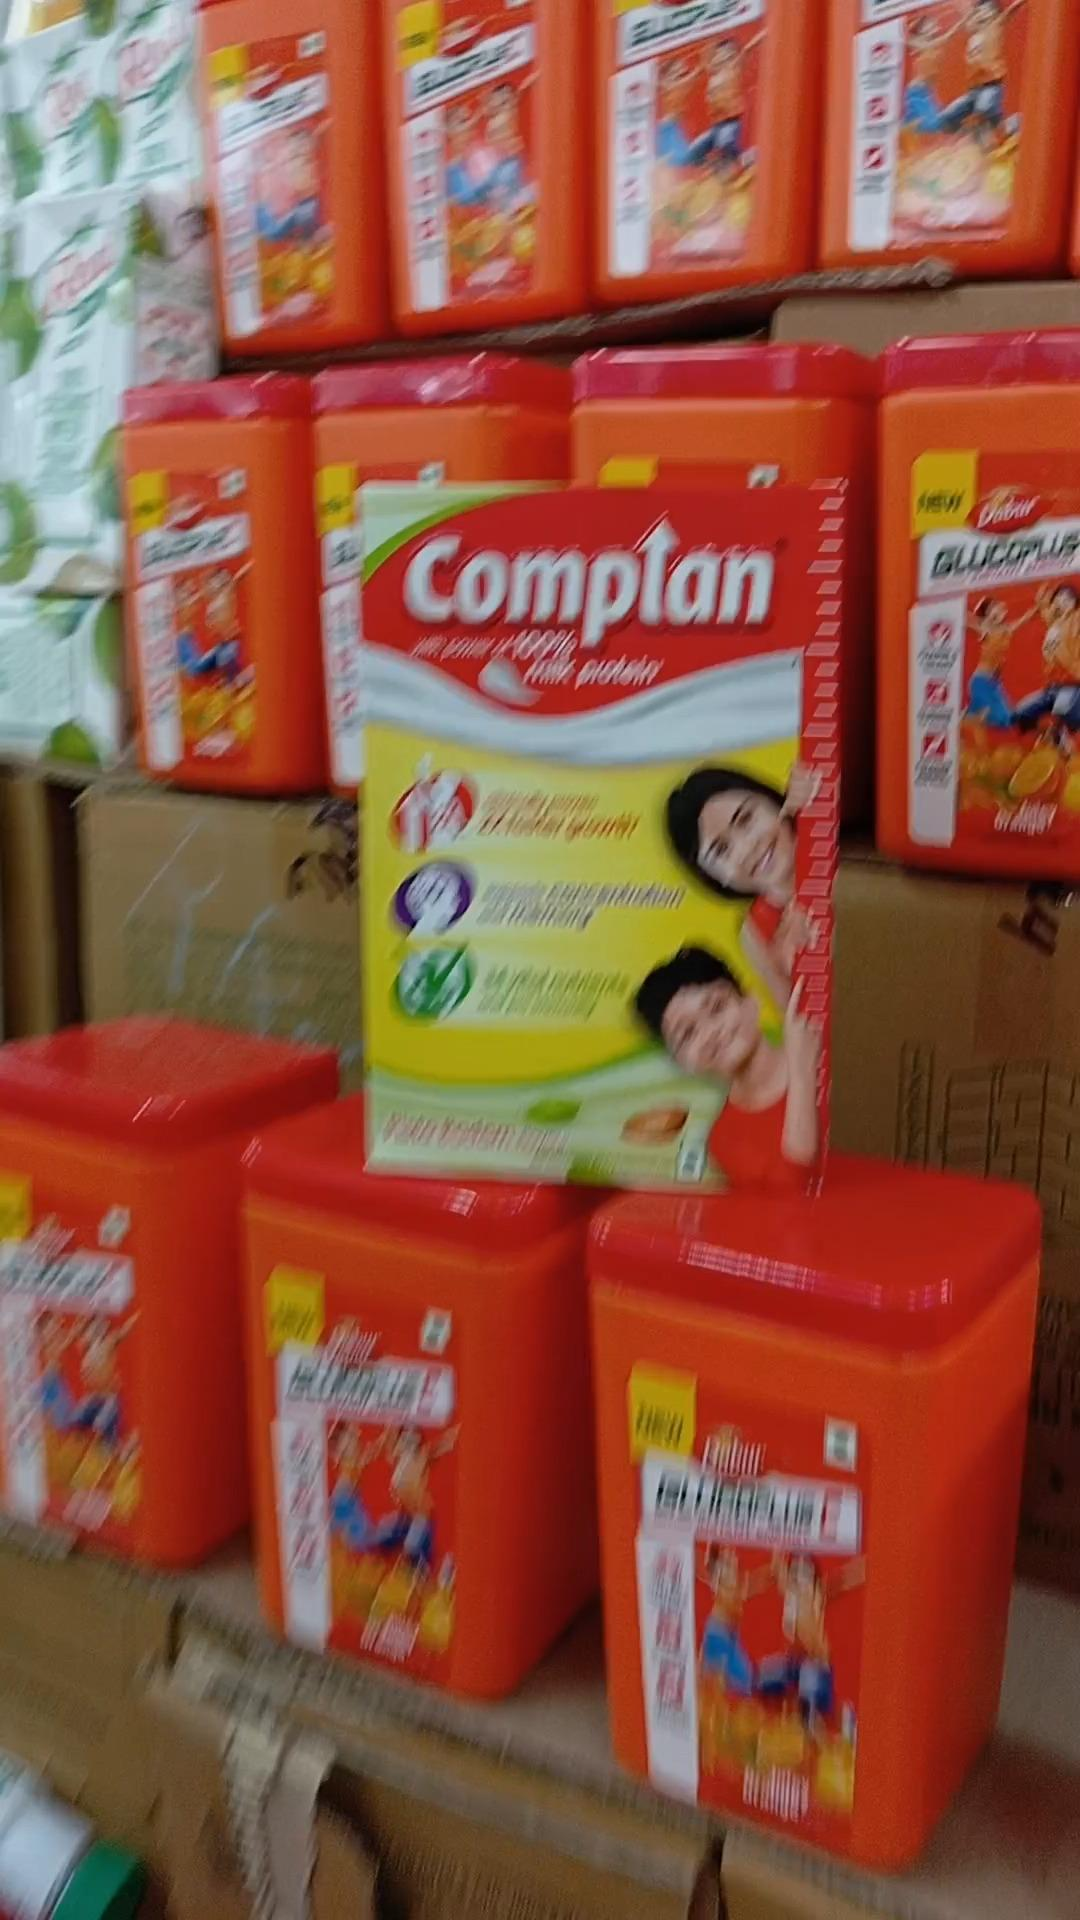COMPLAN_PISTA_BADAM_500_GMS_PACK: (372, 491, 818, 1189)
